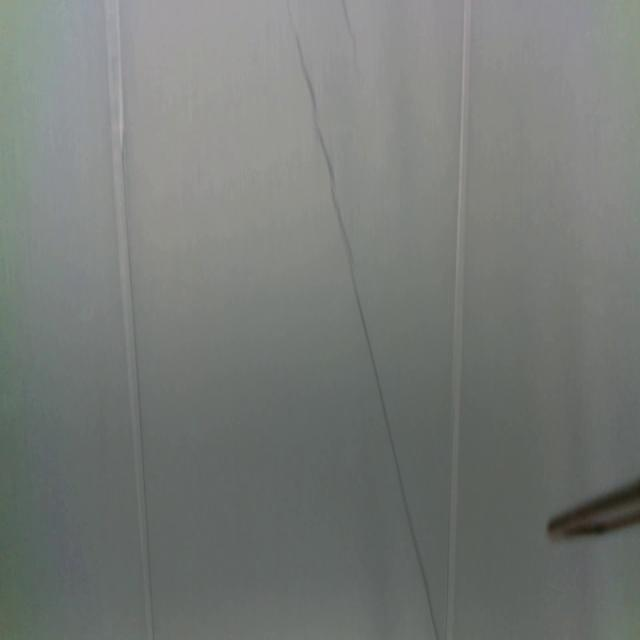crease: (292, 21, 439, 640), (104, 0, 157, 640), (445, 0, 472, 640)
